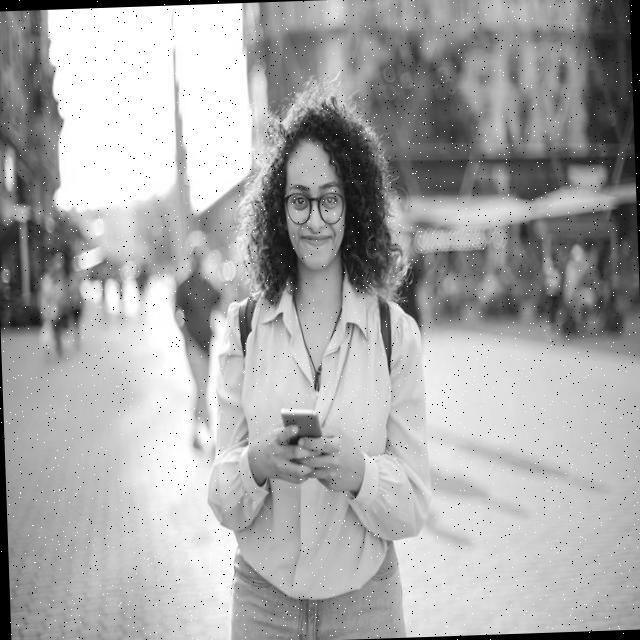Happiness: (280, 138, 352, 274)
